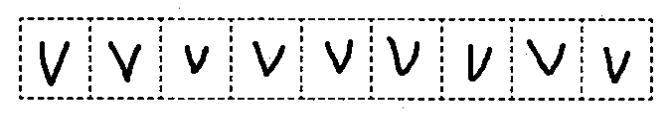V: (382, 28, 429, 82), (520, 34, 572, 80), (31, 35, 72, 89), (103, 37, 146, 87), (456, 40, 500, 84), (247, 35, 290, 80), (592, 43, 634, 89), (316, 36, 364, 74), (180, 42, 217, 80)
